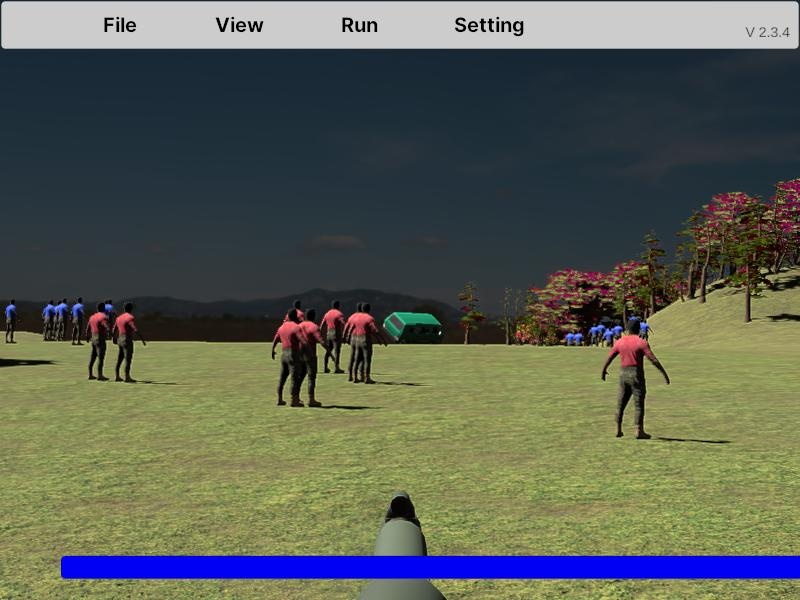Human: (601, 320, 669, 440), (287, 306, 334, 407), (272, 306, 312, 405), (348, 302, 385, 383), (112, 302, 146, 382), (319, 298, 347, 375), (85, 304, 111, 379)
car: (383, 311, 444, 347)
